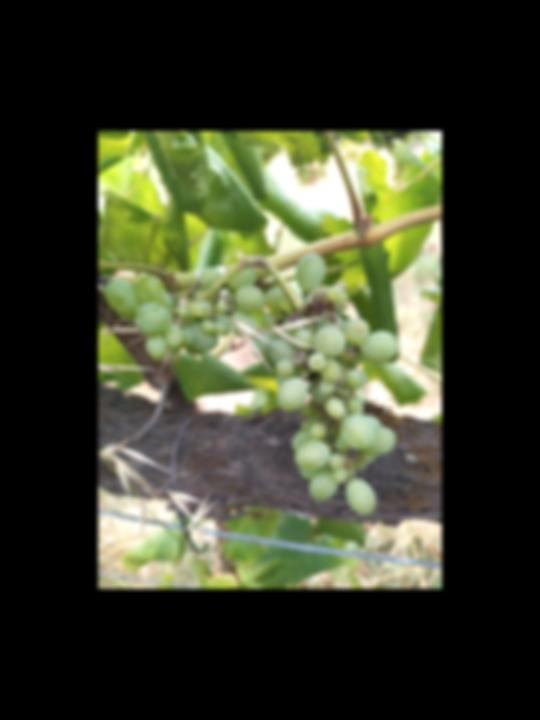grape: (105, 254, 399, 520)
